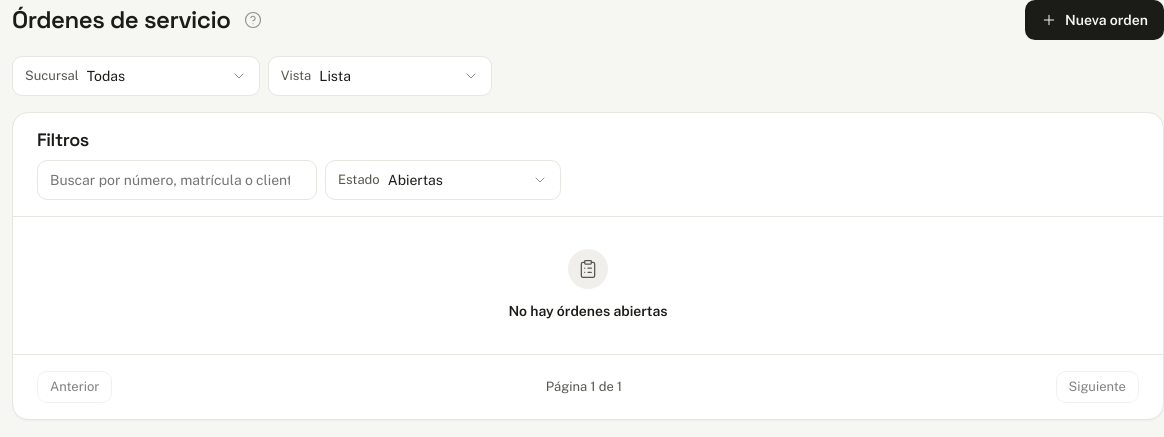
Scenario: Órdenes — correcciones de la prueba de S4a › lista: el mensaje vacío dice si no hay abiertas o si la búsqueda no encontró nada
Expected: the text "No hay órdenes abiertas" is shown, [508,300,668,322]
Type "zzz" into the search field.
click(177, 180); type("zzz")  # box [50,172,304,188]
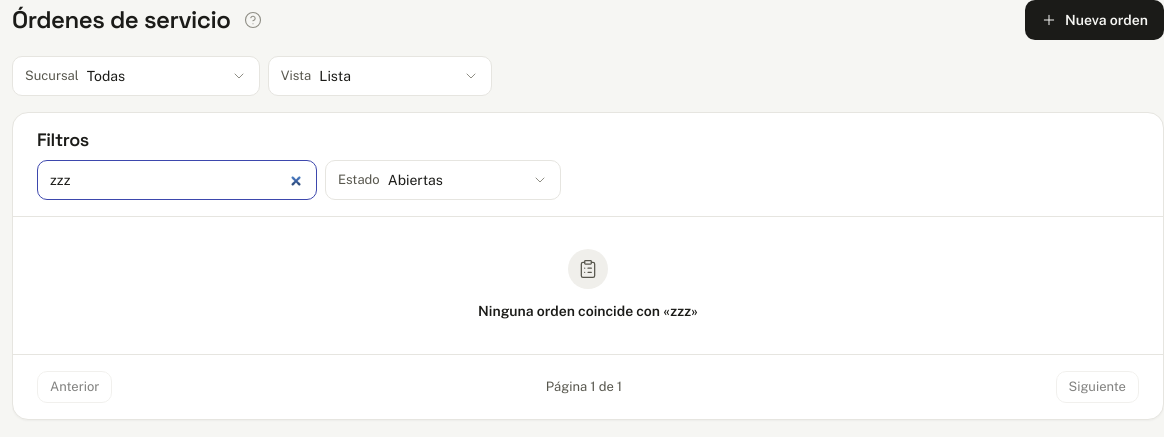
Result: the text "Ninguna orden coincide con «zzz»" is shown at [478,300,698,322]
